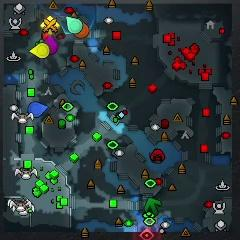Other: (40, 16, 60, 36)
p1: (28, 102, 49, 117)
p2: (66, 15, 82, 34)
p3: (43, 35, 58, 55)
p4: (28, 43, 50, 58)
p5: (75, 22, 89, 39)
x4: (144, 198, 161, 214)
